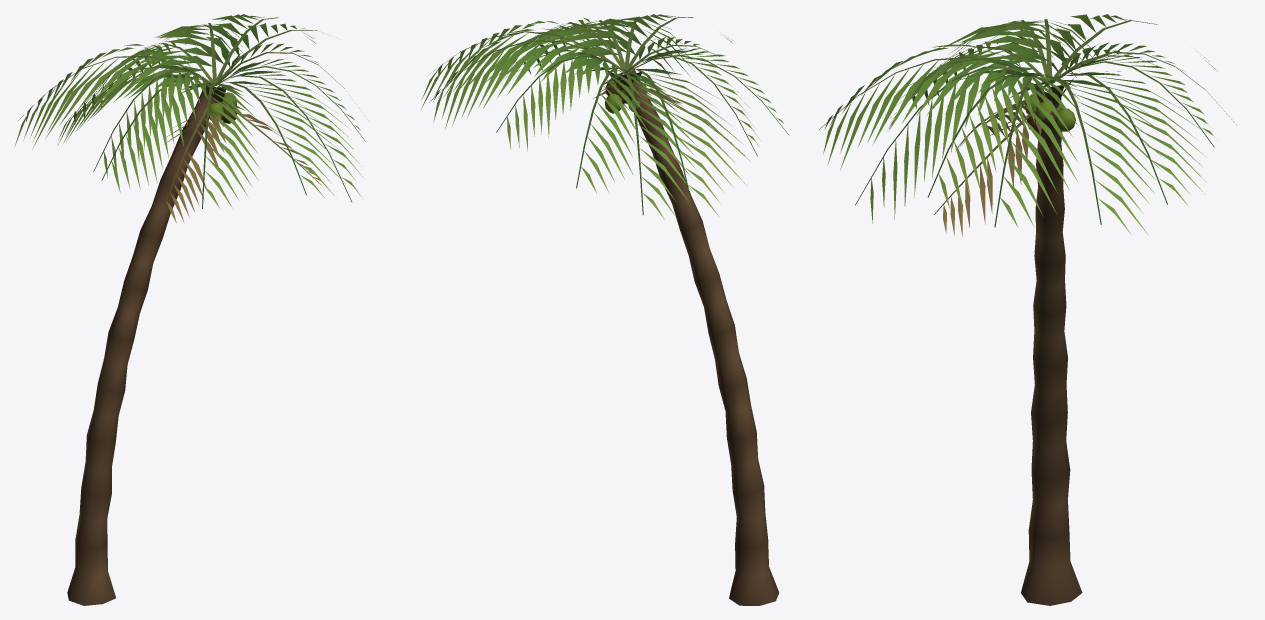
The model's file is palma_2.glb.
3 renders of one model, left to right at view 1: azimuth 30°, elevation 25°; view 2: azimuth 150°, elevation 25°; view 3: azimuth 270°, elevation 25°, orthographic. The views are drawn at different scales.
Visible parts, largest first — view 1: zaklad; view 2: zaklad; view 3: zaklad, plody.
Boxes of the visible parts, x1=… form: zaklad: x1=15, y1=14, x2=365, y2=605; zaklad: x1=420, y1=14, x2=789, y2=605; zaklad: x1=819, y1=14, x2=1236, y2=605; plody: x1=1024, y1=94, x2=1075, y2=132.
Size of the model in its own units: 8.07 by 12.06 by 7.59.
